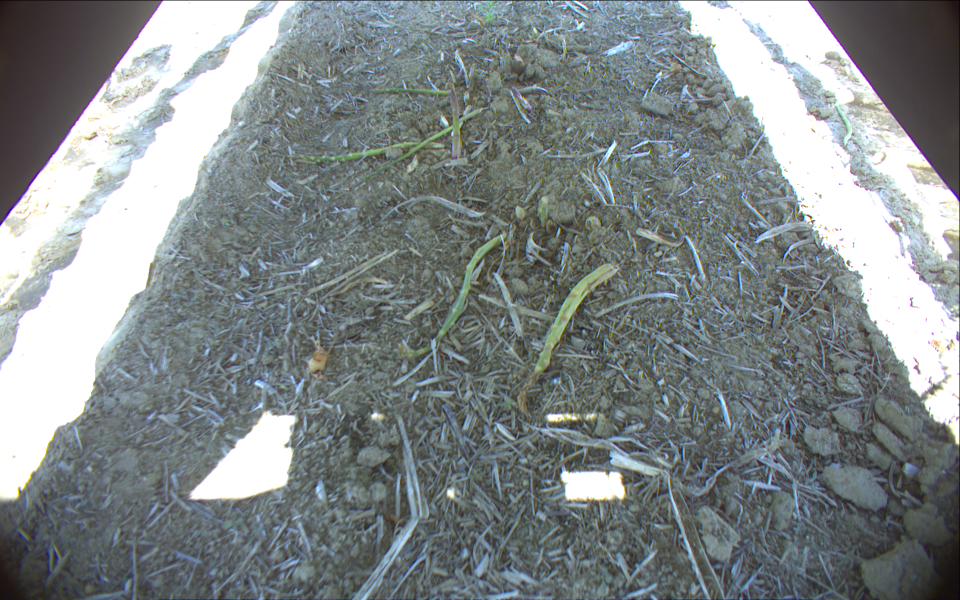aspa: (448, 81, 462, 162)
